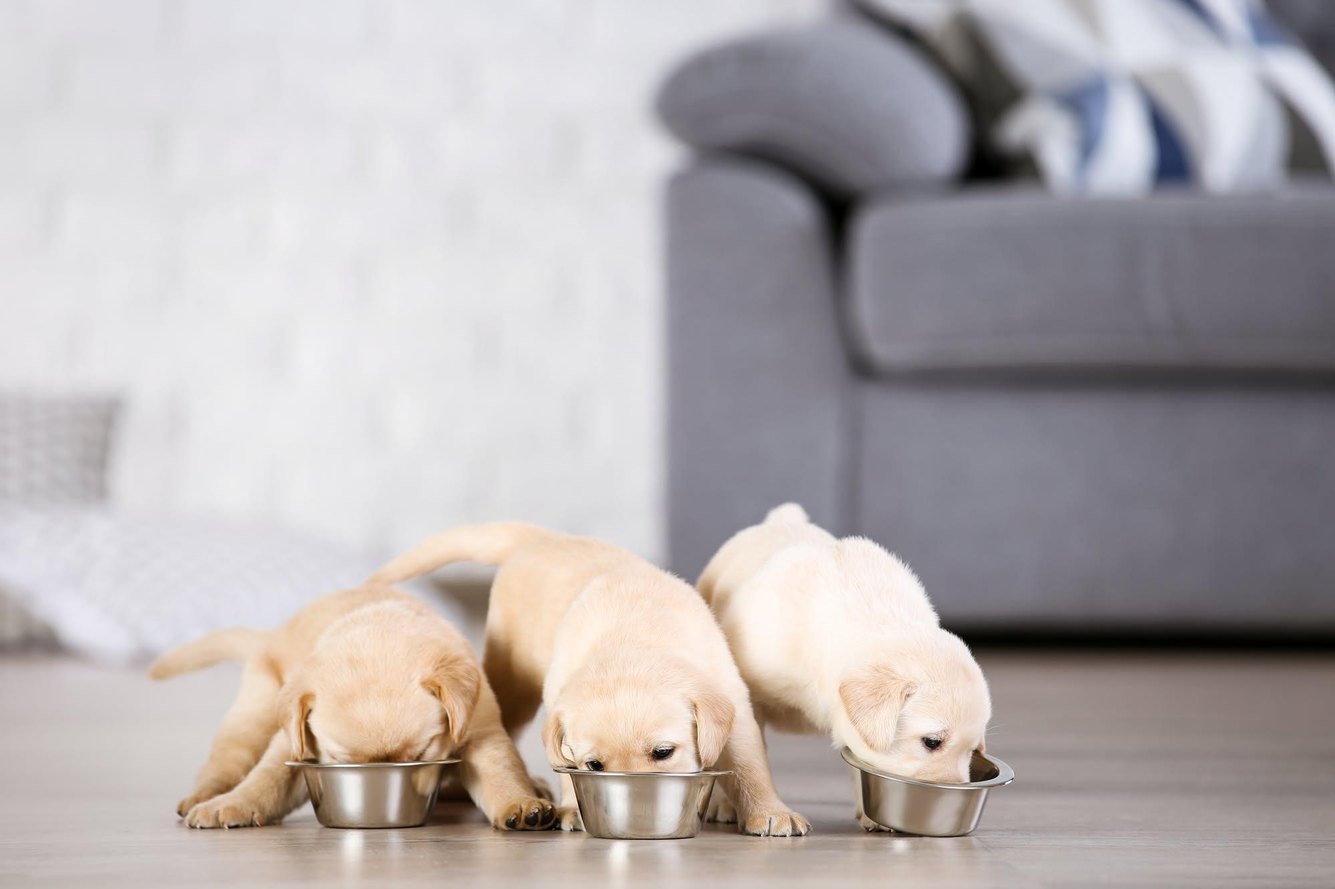puppy-dog: (354, 518, 816, 840), (695, 497, 997, 833), (146, 587, 561, 831)
